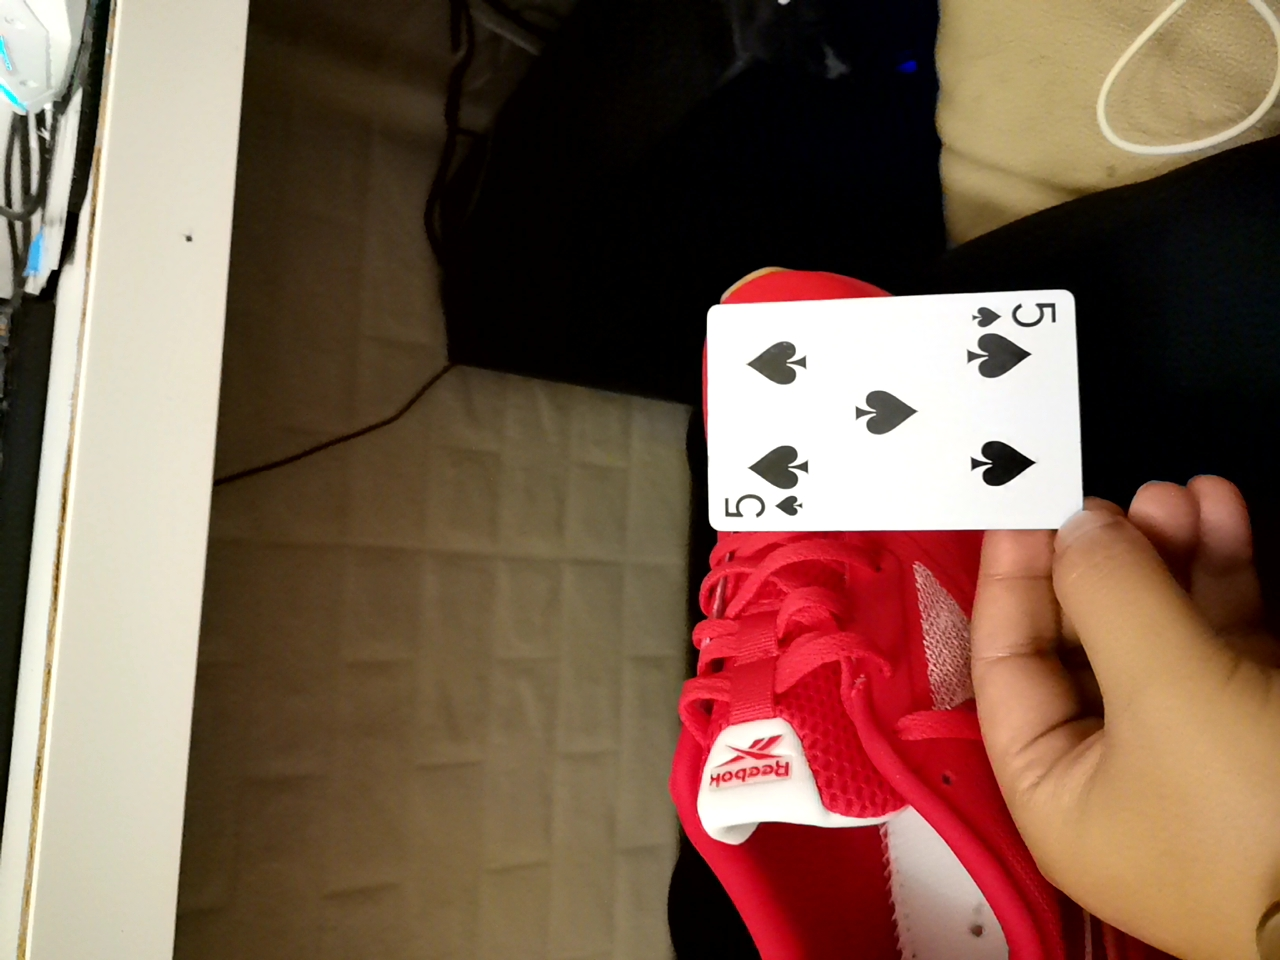ht 5: (696, 280, 1071, 536)
